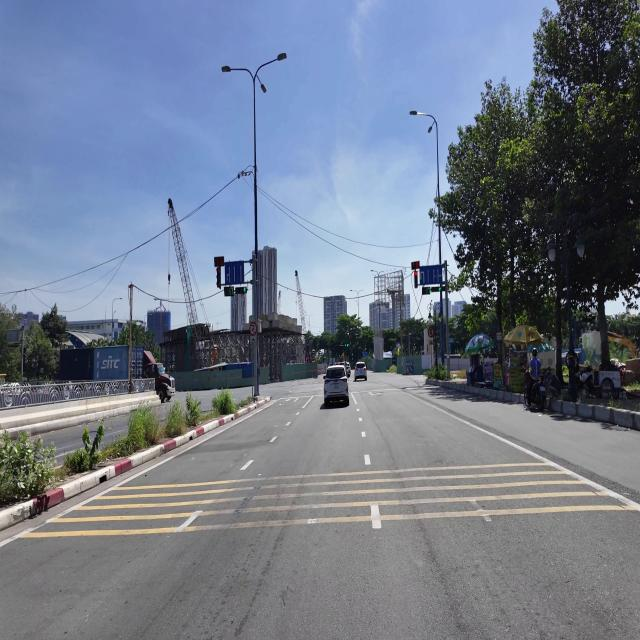car: (324, 365, 349, 406), (354, 362, 367, 381)
